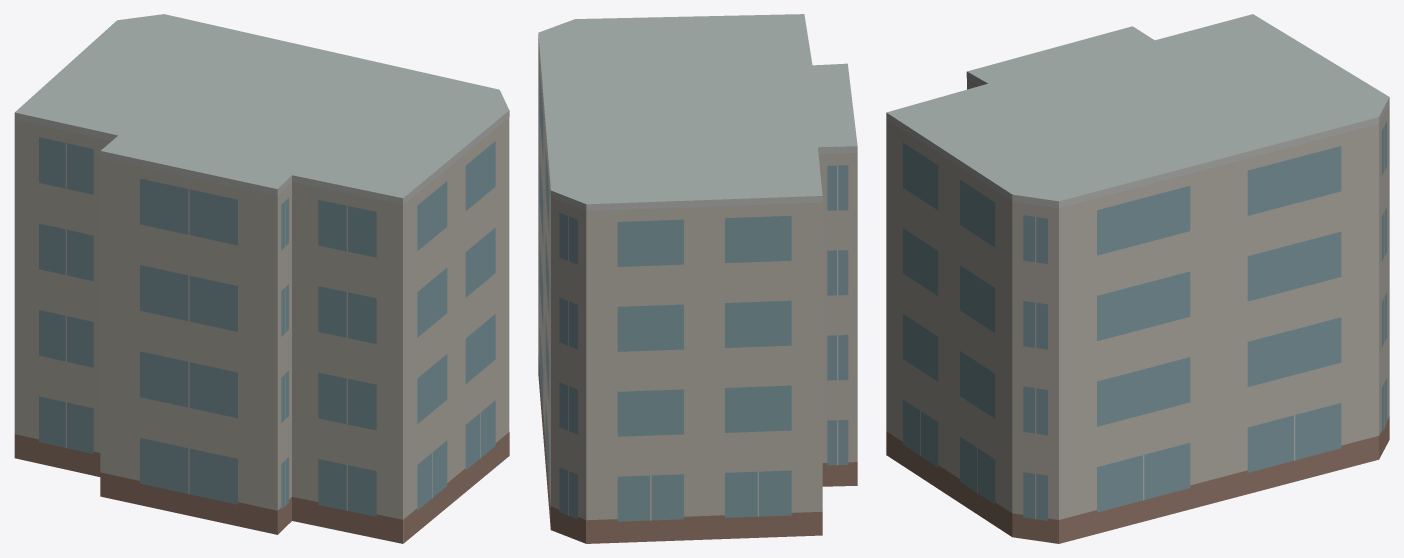
File: survey-upis-32749116.glb
3 views of the same model, side by side, from view 1: azimuth 30°, elevation 25°; view 2: azimuth 150°, elevation 25°; view 3: azimuth 270°, elevation 25° (orthographic).
Parts seen in each view (by area): view 1: survey-upis-32749116.tmp; view 2: survey-upis-32749116.tmp; view 3: survey-upis-32749116.tmp.
Boxes of the visible parts, bbox=[...] form: survey-upis-32749116.tmp: bbox=[14, 14, 509, 543]; survey-upis-32749116.tmp: bbox=[538, 14, 857, 543]; survey-upis-32749116.tmp: bbox=[886, 14, 1389, 543].
Bounding box in the file's own units: 14.43 × 12.3 × 16.39.
